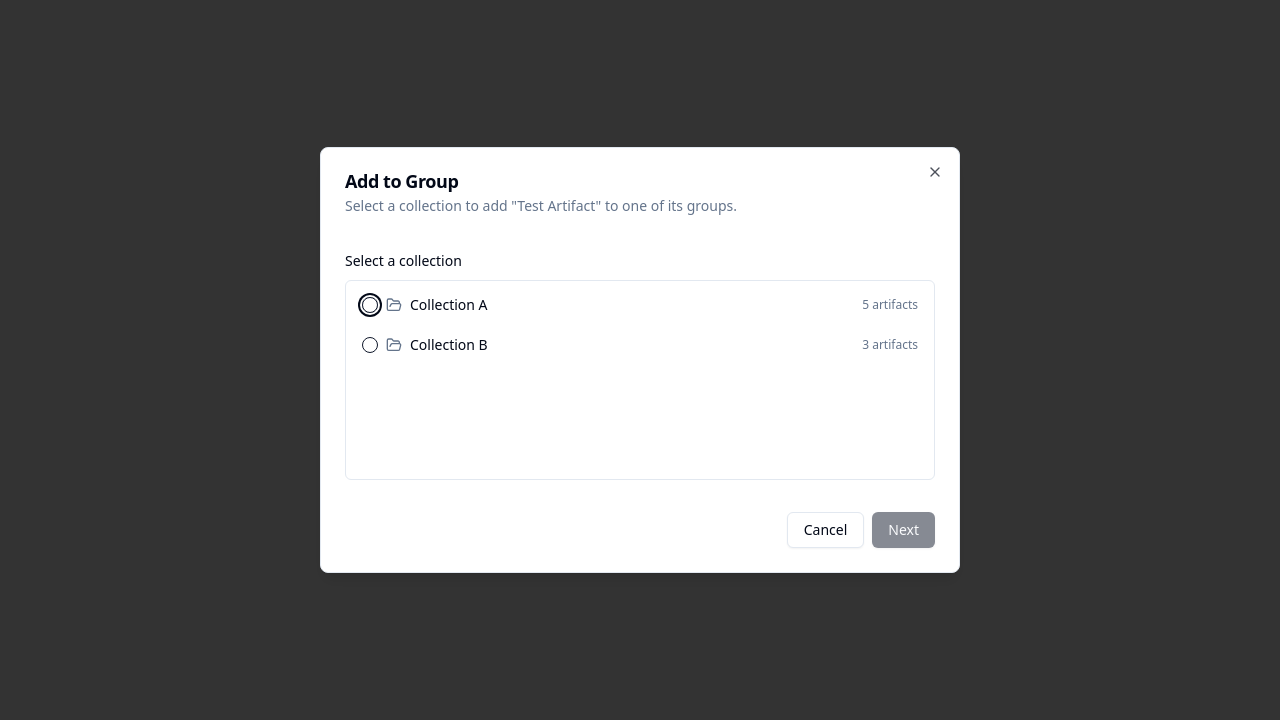
Test: AddToGroupDialog › Collection Picker Step › advances to groups step after selecting collection and clicking Next
# Select a collection
Click the text "Collection A": (449, 305) [410,298,488,312]
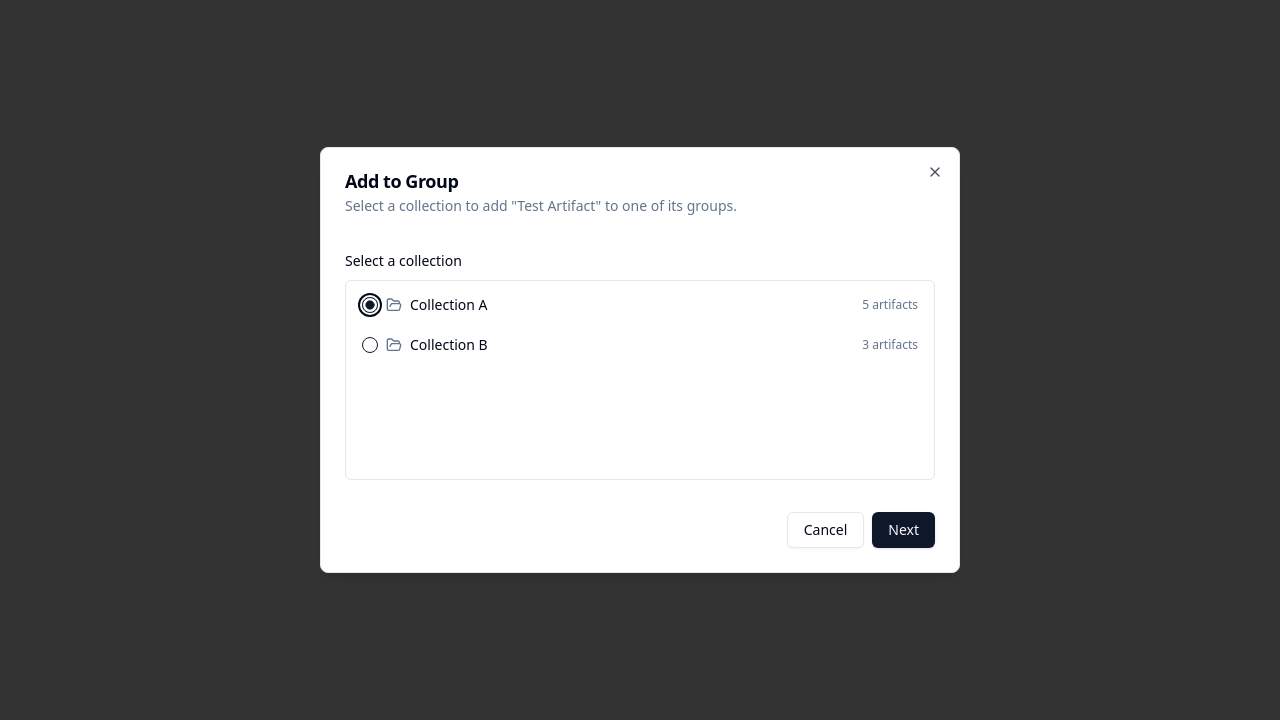
# Click Next
Click the button "Next": (904, 530) [872,512,935,548]
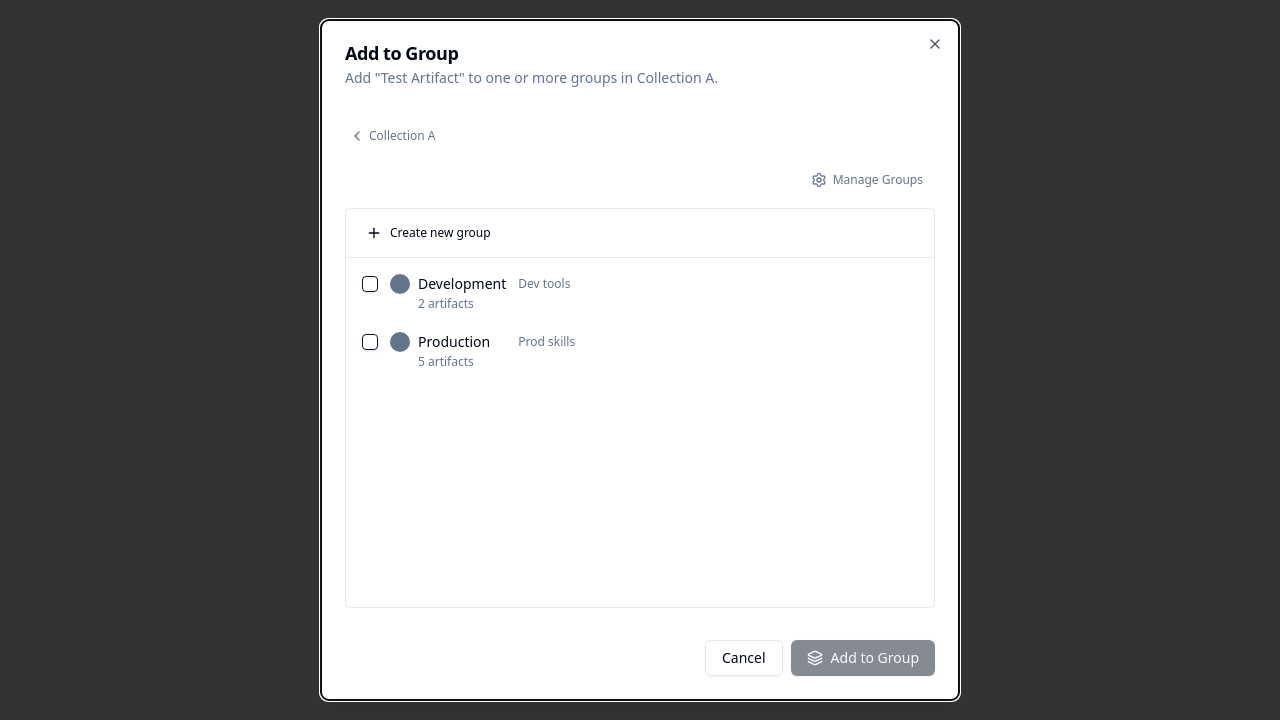
Result: the text "Development" is shown at [418,274,506,294]
Result: the text "Production" is shown at [418,332,490,352]
